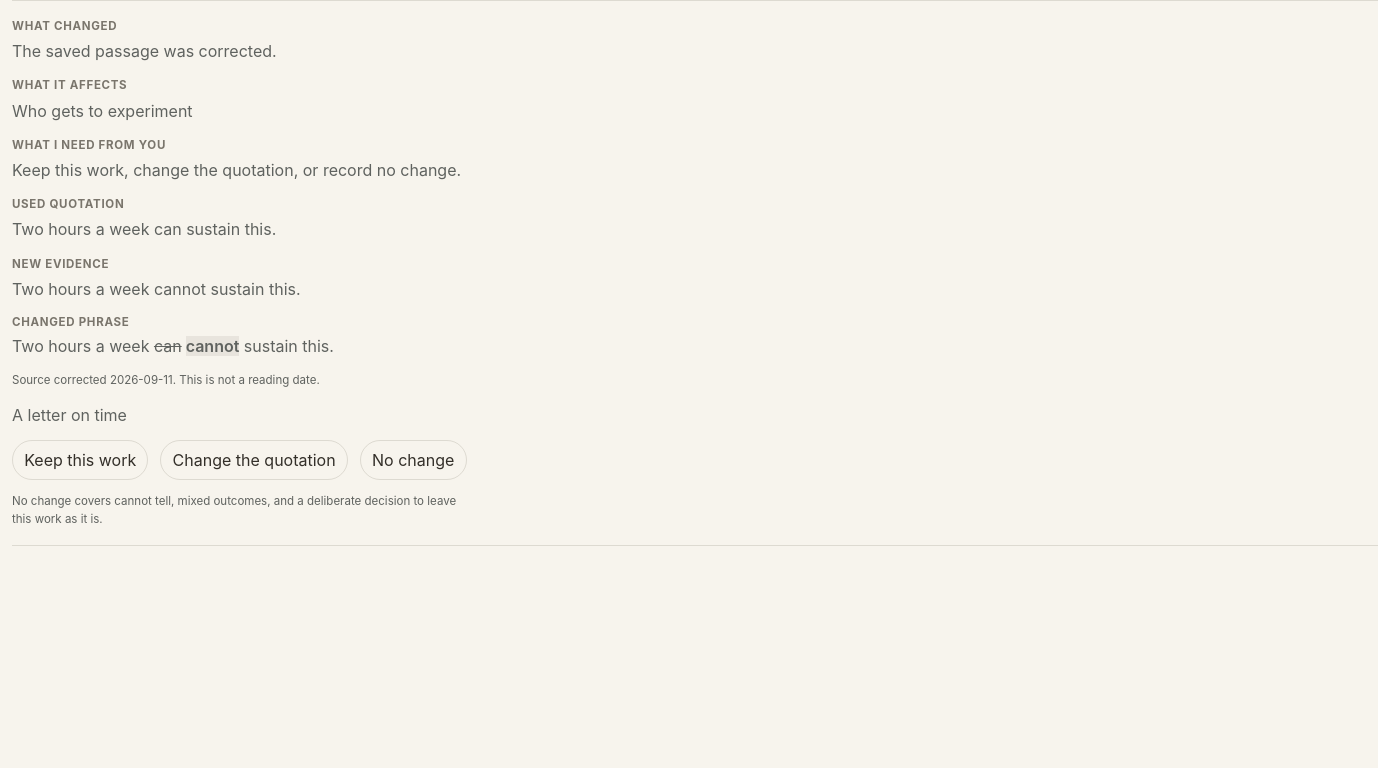
Test: SourceCorrectionReview › records no_change without inventing a rewrite
The image size is (1378, 768).
Click the button "No change". click: [413, 460]
box: [360,440,467,480]
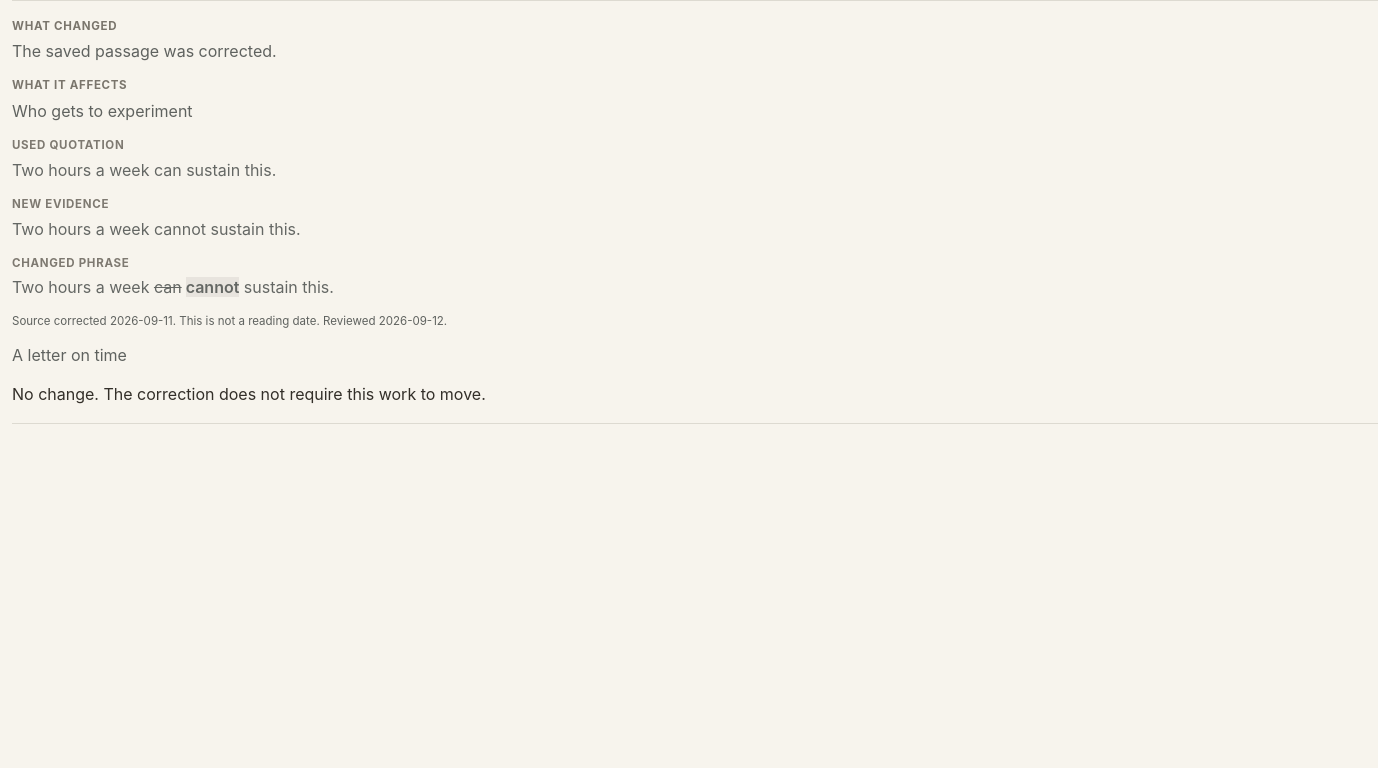
Expected: the text "Two hours a week can sustain this." is shown, [12,160,276,180]
Expected: the text "No change. The correction does not require this work to move." is shown, [12,384,486,404]
Expected: the button "Keep this work" is gone
